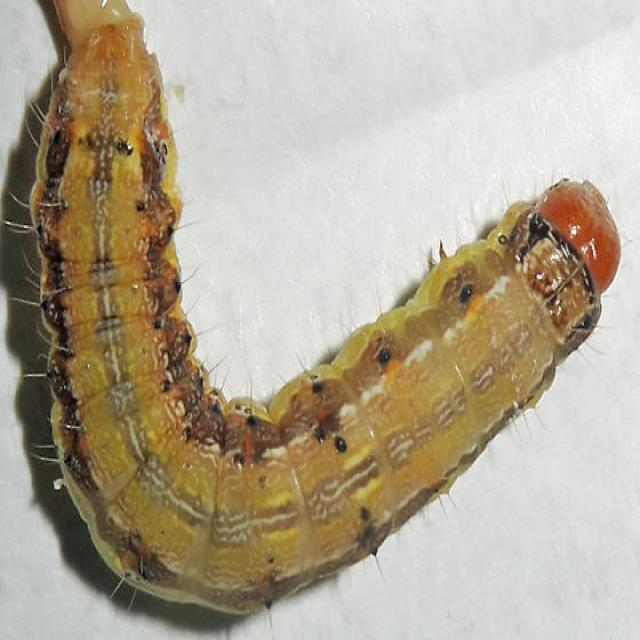Corn-earworm: (13, 1, 616, 632)
